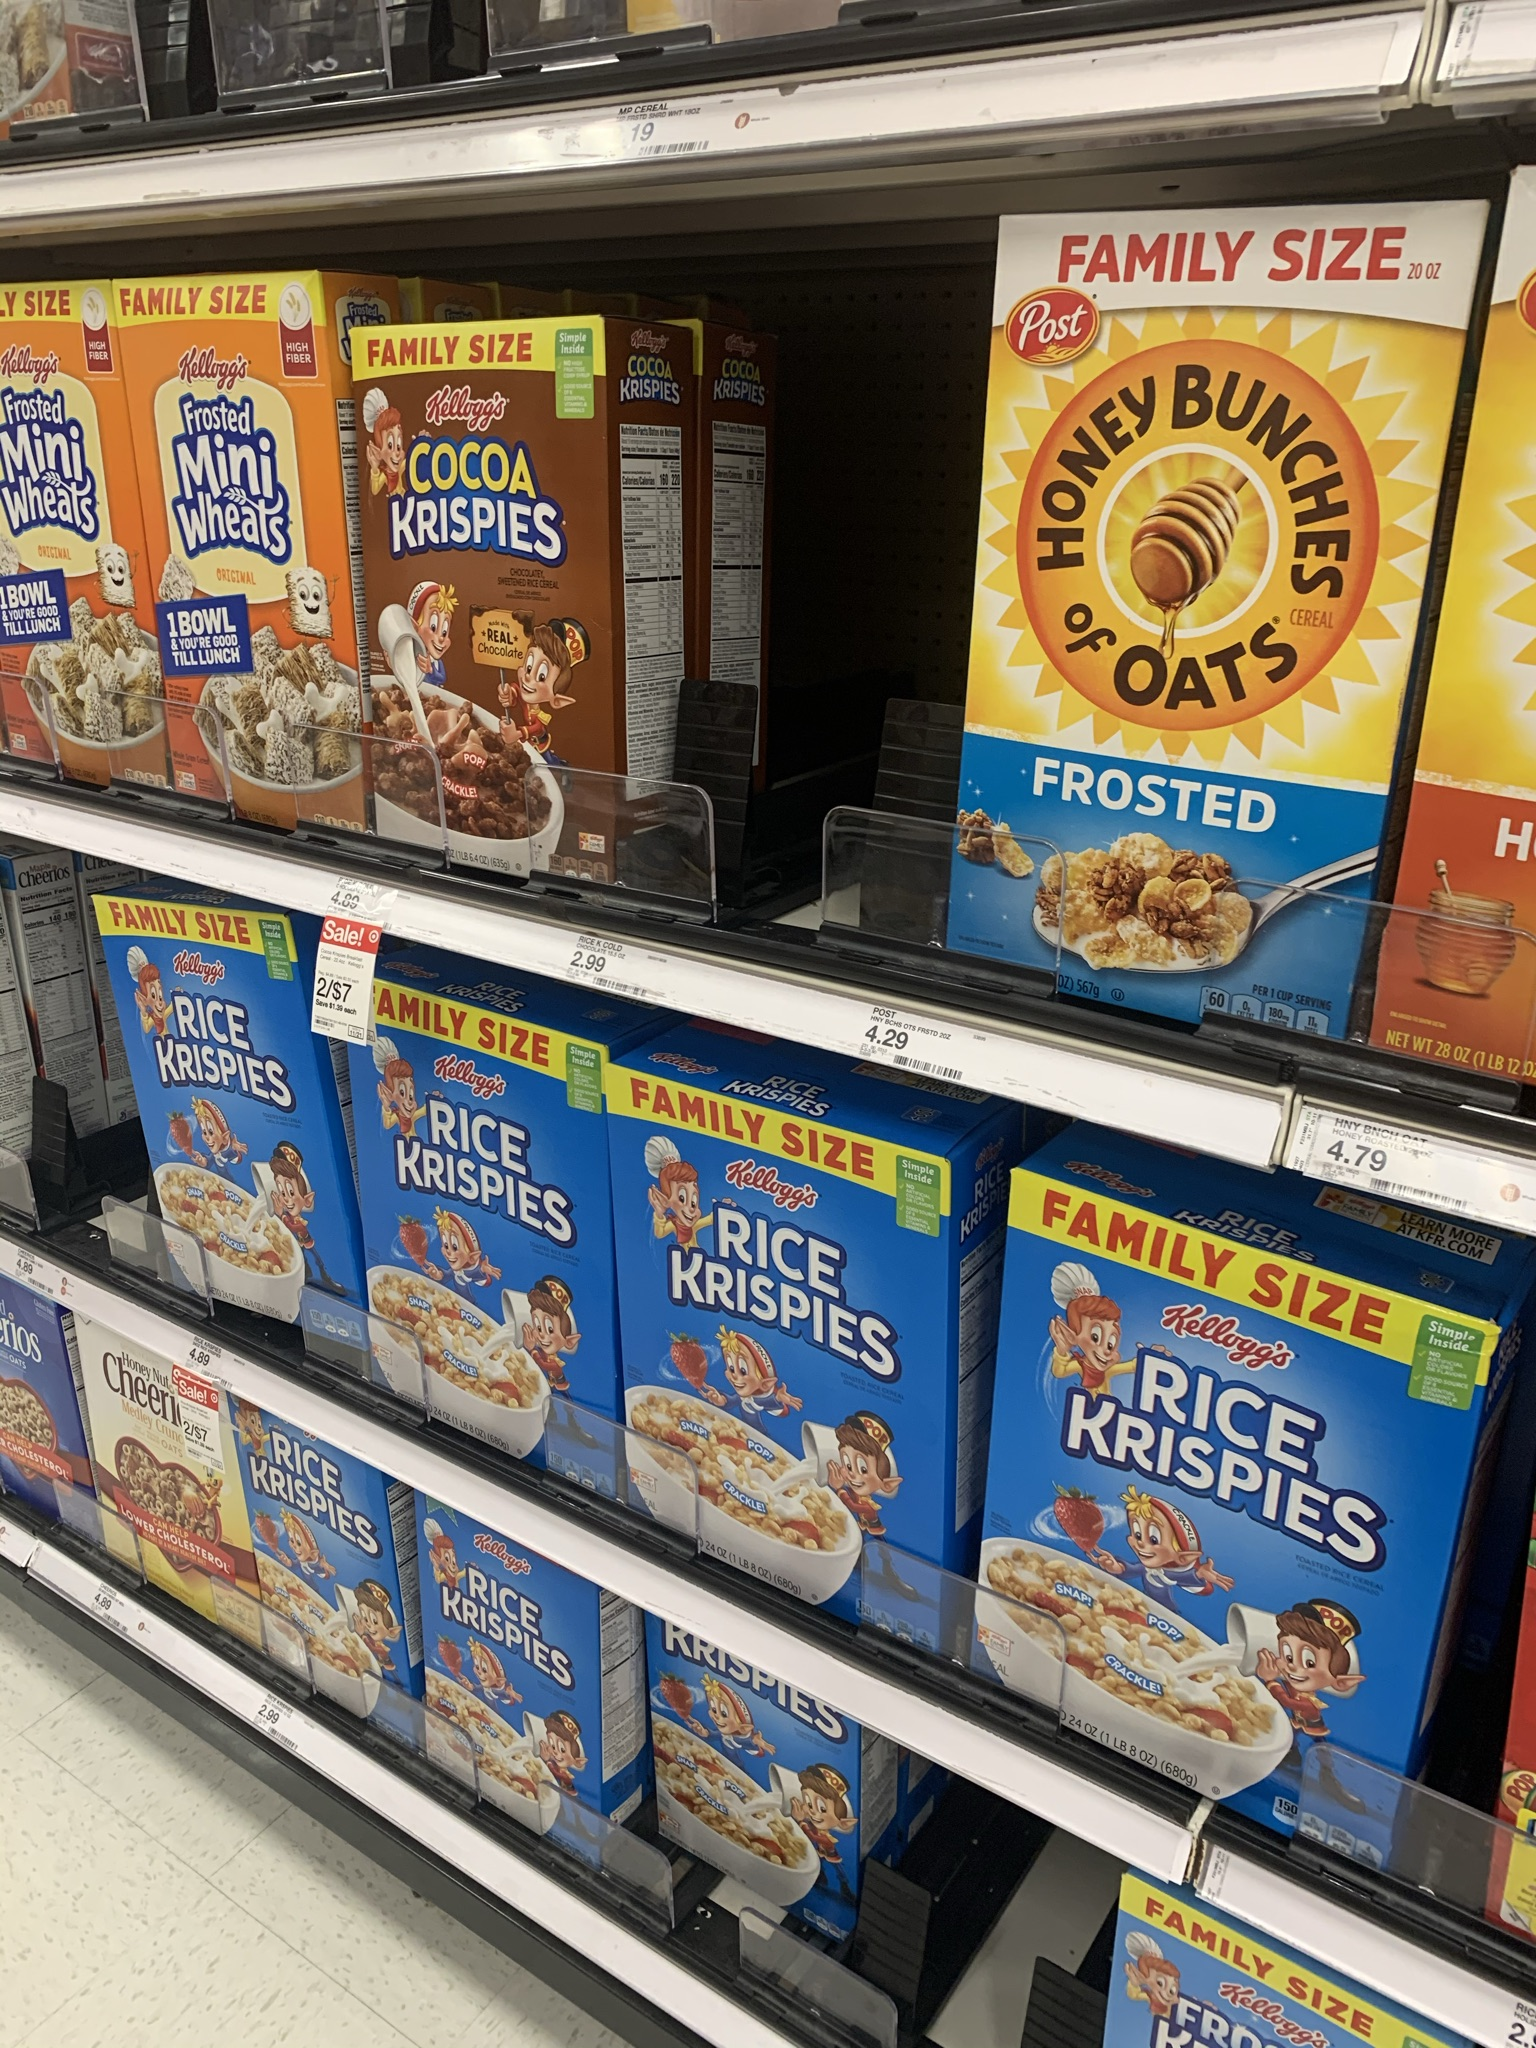box: (986, 240, 1367, 864), (1021, 1292, 1436, 1634), (636, 1155, 936, 1493), (376, 348, 620, 764), (366, 1072, 599, 1364), (144, 1009, 324, 1268), (400, 1588, 586, 1788), (662, 1734, 855, 1887), (257, 1467, 386, 1650)
